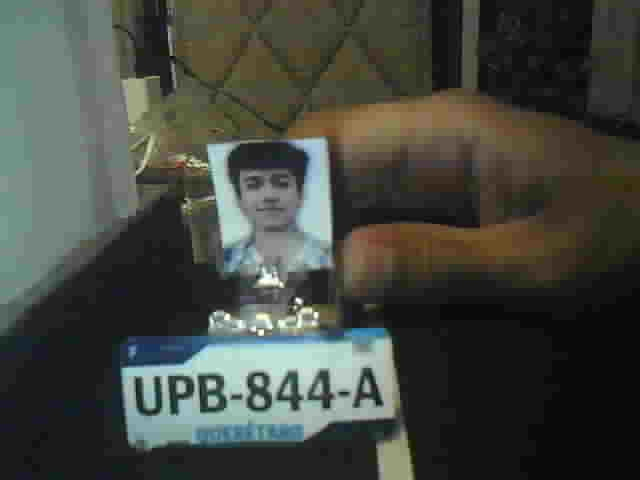PLACA: (117, 326, 402, 451)
ROSTRO: (205, 135, 337, 274)
